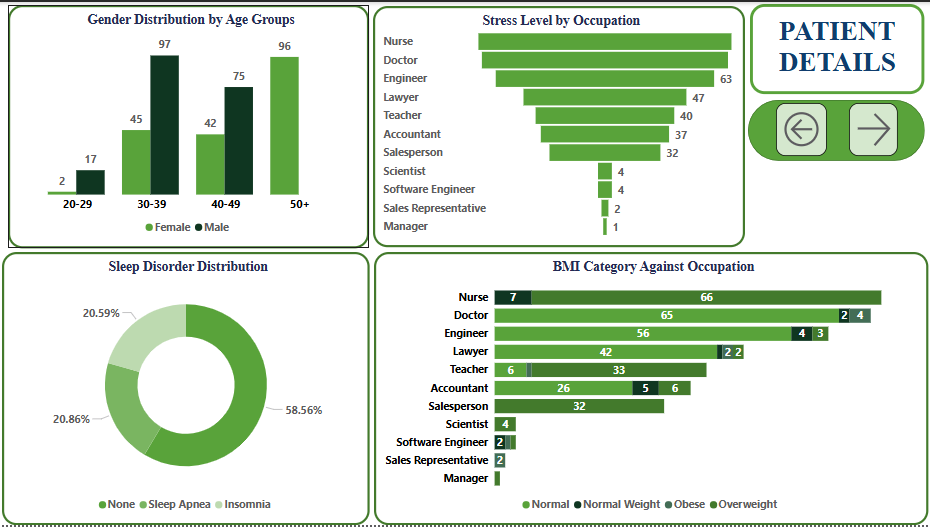

The page's visual inventory and layout, read from the dashboard file:
{"tool":"powerbi","page":{"name":"Patient Details","canvas":[1280,720],"ordinal":1},"visuals":[{"type":"clusteredColumnChart","title":"Gender Distribution by Age Groups","fields":{"Category":["Patient Details.Age Groups"],"Series":["Sleep_health_and_lifestyle_dataset.Gender"],"Y":["CountNonNull(Sleep_health_and_lifestyle_dataset.Gender)"]},"box":[10.5,4.5,497.4,334.6],"z":0},{"type":"donutChart","title":"Sleep Disorder Distribution","fields":{"Series":["Sleep_health_and_lifestyle_dataset.Sleep Disorder"],"Category":["Sleep_health_and_lifestyle_dataset.Sleep Disorder"],"Y":["CountNonNull(Sleep_health_and_lifestyle_dataset.Gender)"]},"box":[3,343.6,506.4,376.4],"z":1000},{"type":"funnel","title":"Stress Level by Occupation","fields":{"Category":["Sleep_health_and_lifestyle_dataset.Occupation"],"Y":["CountNonNull(Sleep_health_and_lifestyle_dataset.Stress Level)"]},"box":[513.9,6,512.4,331.6],"z":2000},{"type":"barChart","title":"BMI Category Against Occupation","fields":{"Category":["Occupational Details.Occupation"],"Series":["Sleep_health_and_lifestyle_dataset.BMI Category"],"Y":["CountNonNull(Sleep_health_and_lifestyle_dataset.BMI Category)"]},"box":[515.4,343.6,763.3,376.4],"z":3000},{"type":"textbox","box":[1032.2,3,240.5,124],"z":4000},{"type":"shape","box":[1029.2,134.4,243.5,83.7],"z":5000},{"type":"actionButton","box":[1068,138.9,70.2,73.2],"z":6000},{"type":"actionButton","box":[1168.1,138.9,67.2,73.2],"z":7000}]}

Visuals, with their boxes in screenshot pixels (x1, y1, x2, y2), scaled from the page's 1280x720 canvas onto the 930x527 screenshot:
"Gender Distribution by Age Groups" clusteredColumnChart: [left=8, top=3, right=369, bottom=248]
"Sleep Disorder Distribution" donutChart: [left=2, top=251, right=370, bottom=526]
"Stress Level by Occupation" funnel: [left=373, top=4, right=746, bottom=247]
"BMI Category Against Occupation" barChart: [left=374, top=251, right=929, bottom=526]
textbox: [left=750, top=2, right=925, bottom=93]
shape: [left=748, top=98, right=925, bottom=160]
actionButton: [left=776, top=102, right=827, bottom=155]
actionButton: [left=849, top=102, right=898, bottom=155]
